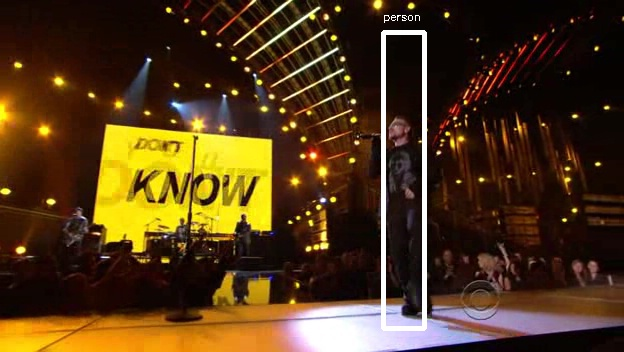person: (367, 116, 434, 226), (364, 116, 431, 226), (370, 116, 437, 226), (367, 113, 434, 223), (367, 119, 434, 229)
target_negative: (235, 95, 623, 201), (102, 233, 316, 331), (204, 20, 514, 79), (583, 163, 619, 219), (511, 333, 576, 337), (418, 261, 420, 325)
